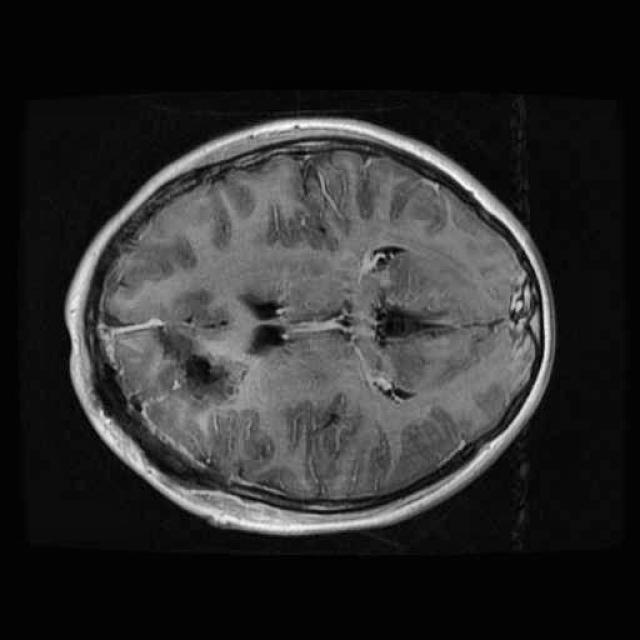Non-Tumor: (149, 278, 254, 419)
